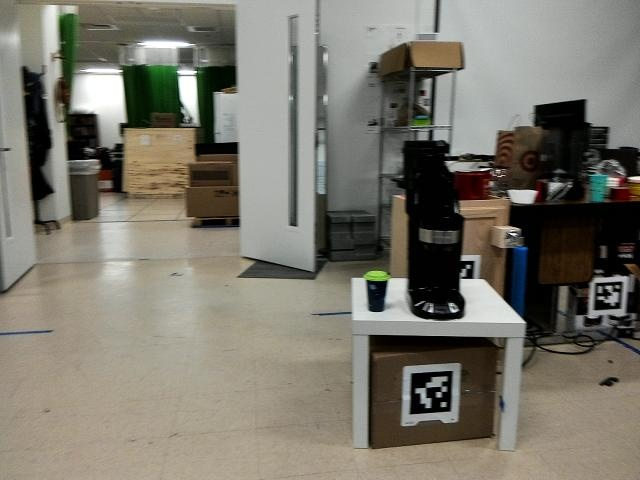coffee_cup: (583, 172, 609, 204)
noodle_handle: (506, 240, 531, 323)
useless_cup: (363, 270, 389, 313)
